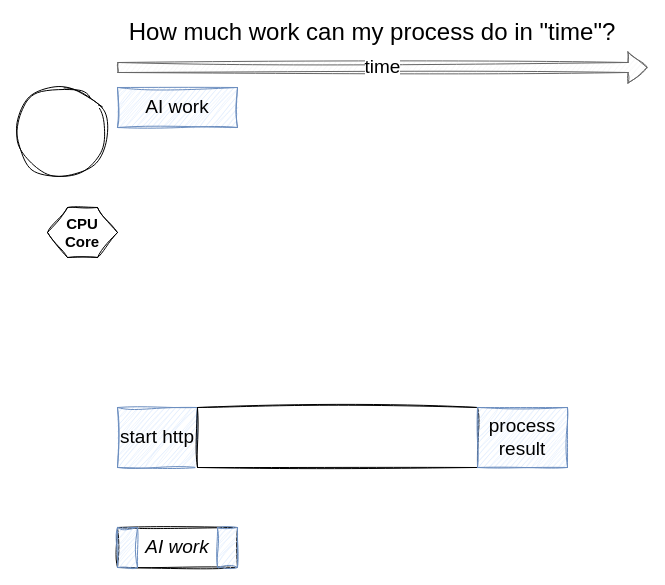
Image size: 665x585. Some labels were removed from this diagram. Here are the shapes that lost their labels. From the top down, the centre of each, then its label:
(62,132): my process
(337,437): wait for result
